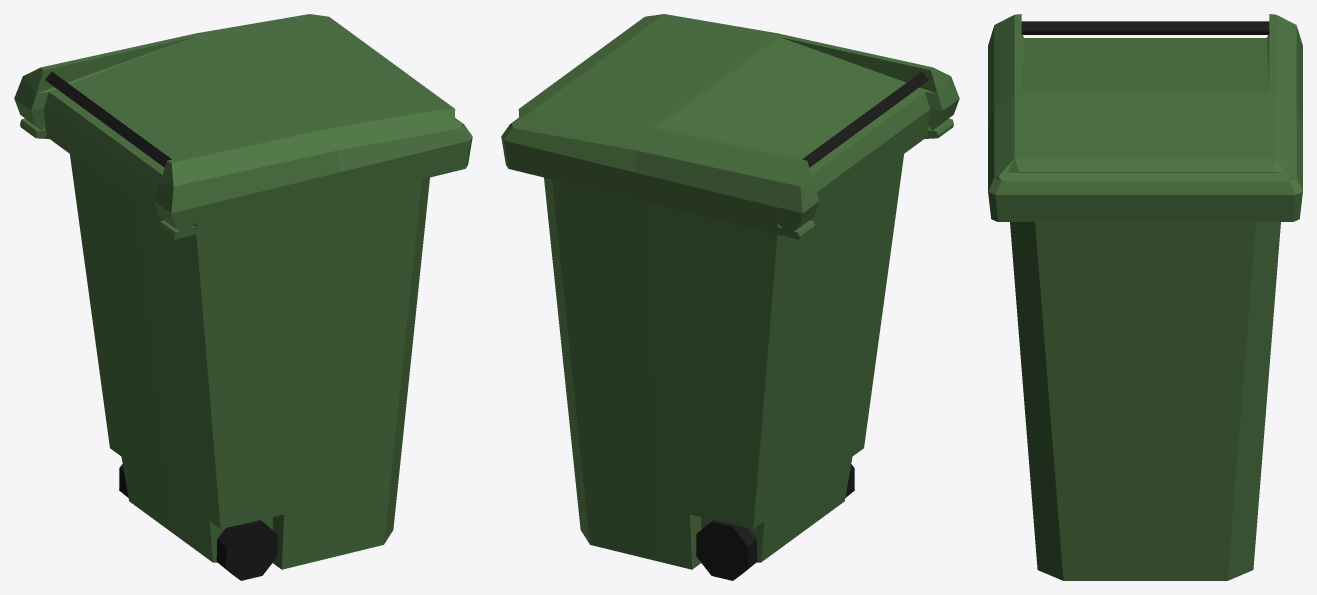
File: Trash_can.fbx
3 views of the same model, side by side, from view 1: azimuth 30°, elevation 25°; view 2: azimuth 150°, elevation 25°; view 3: azimuth 270°, elevation 25° (orthographic).
Visible parts, largest first — view 1: Бак, Крышка; view 2: Бак, Крышка; view 3: Бак, Крышка.
Boxes of the visible parts, box(x1,y1,x2,y2) form: Бак: box(20, 109, 472, 580); Крышка: box(14, 14, 472, 231); Бак: box(501, 109, 953, 580); Крышка: box(501, 14, 959, 231); Бак: box(988, 192, 1302, 580); Крышка: box(988, 14, 1302, 194).
Size of the model in its own units: 111 by 156 by 99.23.
